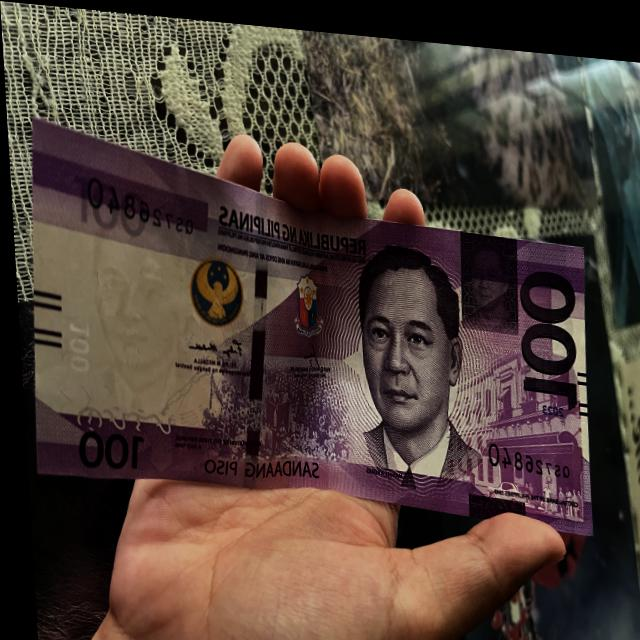concealed_value: (455, 223, 522, 326)
security_thread: (229, 189, 278, 456)
see_through_mark: (66, 394, 176, 444)
serial_number: (76, 158, 200, 241), (472, 419, 571, 478)
value: (512, 259, 581, 405)
value_watermark: (58, 312, 95, 380)
watermark: (74, 179, 204, 412)
